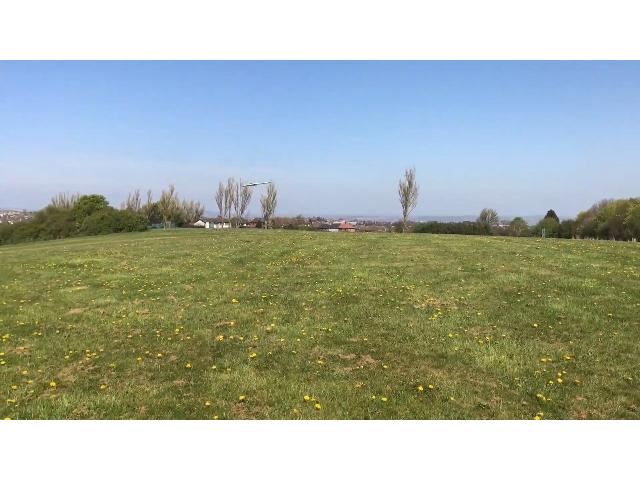Anti-Drone: (234, 181, 284, 194)
